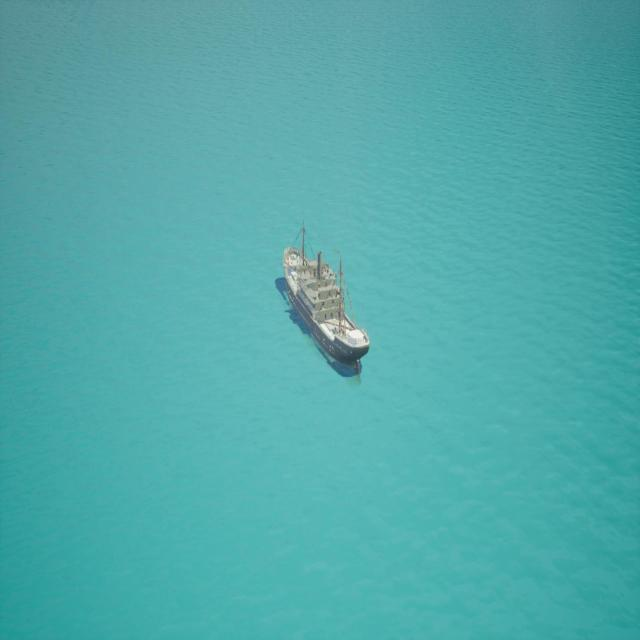fishing ship: (277, 217, 368, 379)
